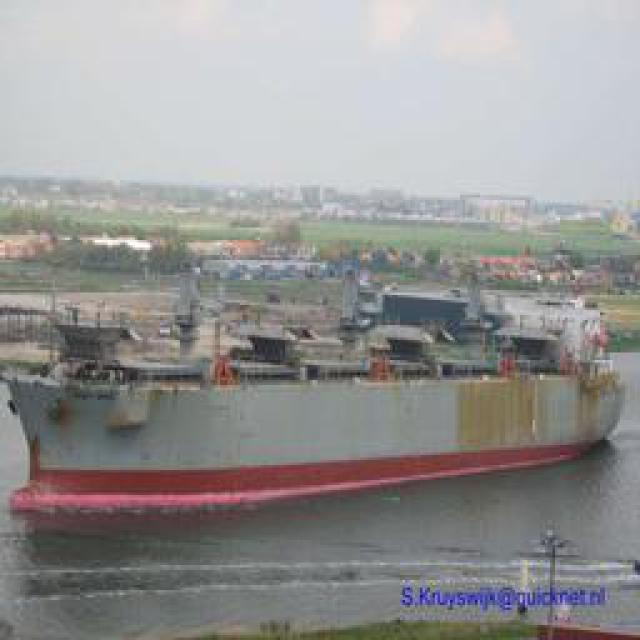Ship: (14, 310, 624, 540)
